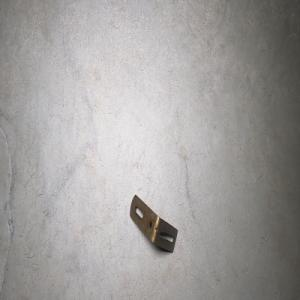MetalPart: (129, 193, 178, 253)
